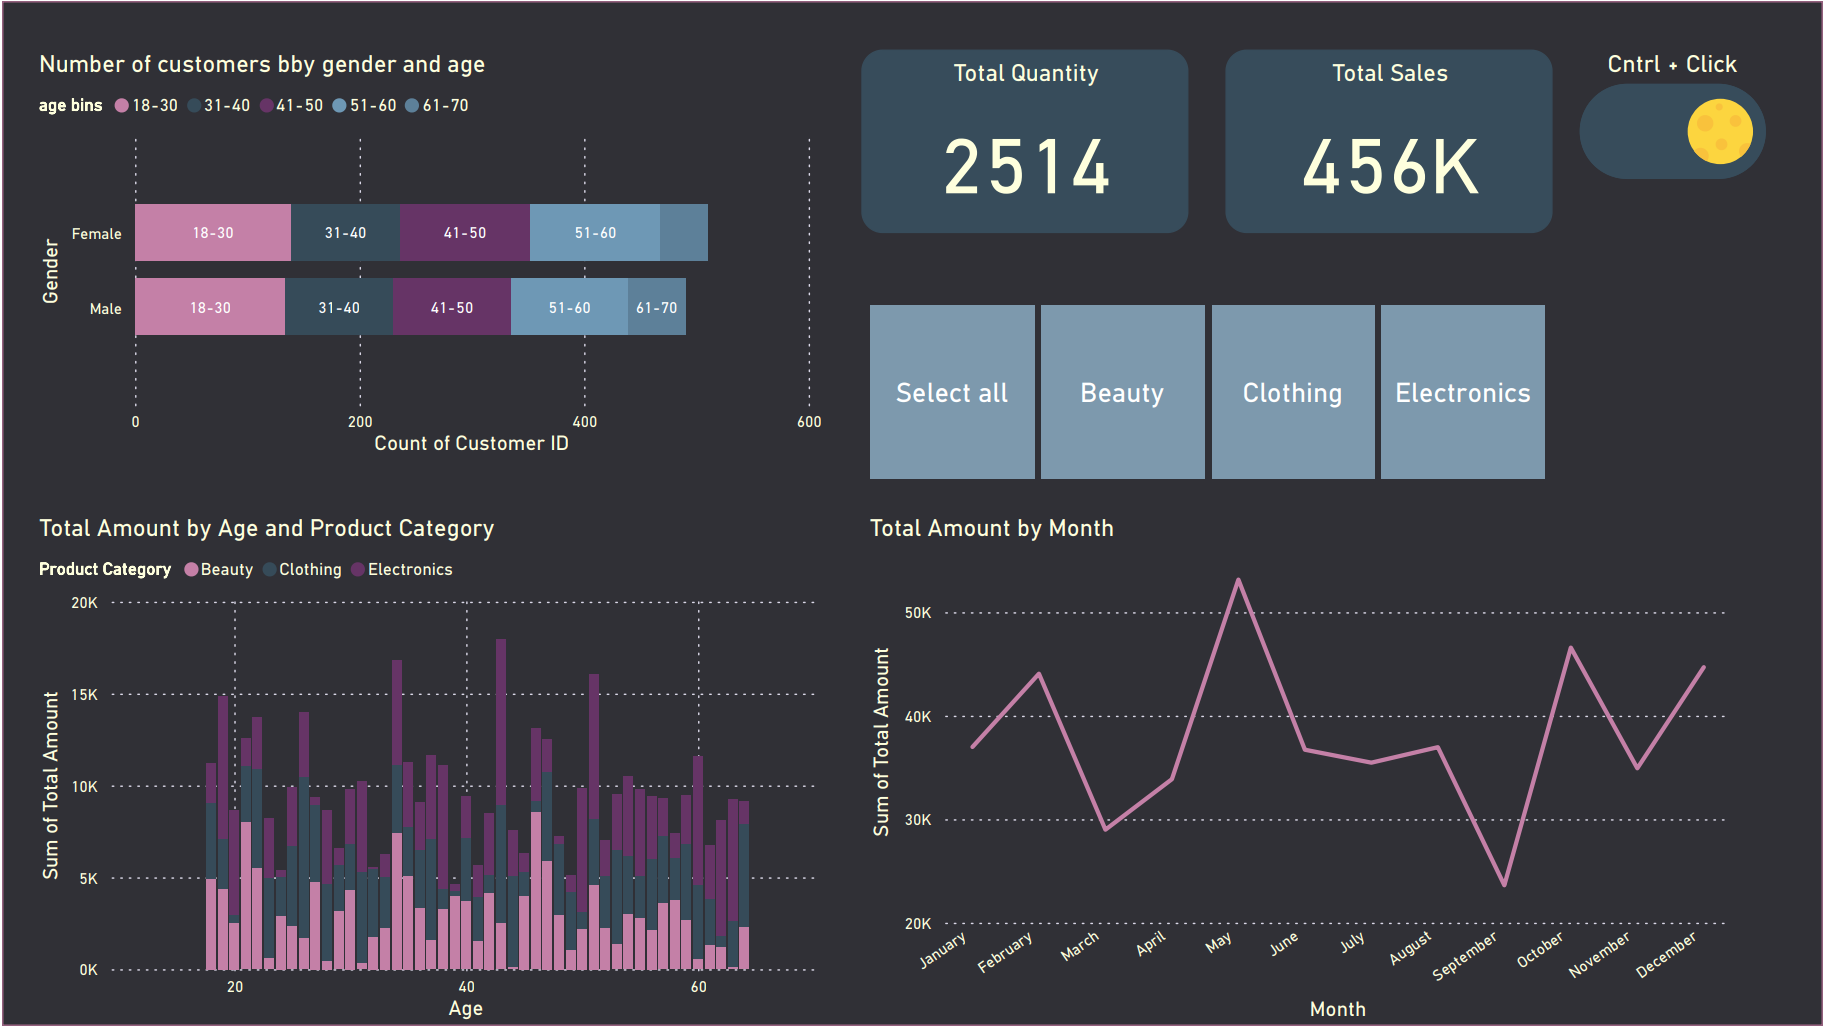

Layout of this report page (visuals, bound fields, positions):
{"tool":"powerbi","page":{"name":"Store","canvas":[1280,720],"ordinal":0},"visuals":[{"type":"shape","box":[0,0,1280,720],"z":0},{"type":"lineChart","title":"Total Amount by Month","fields":{"Category":["retail_sales_dataset.Date.Variation.Date Hierarchy.Month"],"Y":["Sum(retail_sales_dataset.Total Amount)"]},"box":[604.6,359.6,615.1,360.9],"z":1000},{"type":"slicer","fields":{"Values":["retail_sales_dataset.Product Category"]},"box":[582.9,207.1,527.1,137.1],"z":2000},{"type":"columnChart","title":"Total Amount by Age and Product Category","fields":{"Category":["retail_sales_dataset.Age"],"Y":["Sum(retail_sales_dataset.Total Amount)"],"Series":["retail_sales_dataset.Product Category"]},"box":[21.1,359.6,561.1,360.9],"z":3000},{"type":"card","title":"Total Sales","fields":{"Values":["Sum(retail_sales_dataset.Total Amount)"]},"box":[860,34.3,230,128.6],"z":4000},{"type":"barChart","title":"Number of customers bby gender and age","fields":{"Category":["retail_sales_dataset.Gender"],"Y":["CountNonNull(retail_sales_dataset.Customer ID)"],"Series":["retail_sales_dataset.age bins"]},"box":[21.1,34.2,561.1,289.8],"z":5000},{"type":"card","title":"Total Quantity","fields":{"Values":["Sum(retail_sales_dataset.Quantity)"]},"box":[604.3,34.3,230,128.6],"z":6000},{"type":"slicer","fields":{"Values":["Mode Selection.Mode"]},"box":[1125.7,66,104.3,60],"z":6000,"group":"g1"},{"type":"group","id":"g1","title":"Group 1","box":[1109.1,34.2,130.4,90.9],"z":7000},{"type":"bookmarkNavigator","title":"Cntrl + Click","box":[1109.1,34.2,131.4,91.4],"z":8000,"group":"g1"}]}

Visuals, with their boxes in screenshot pixels (x1, y1, x2, y2), scaled from the page's 1280x720 canvas onto the 1825x1029 screenshot:
shape: x1=0, y1=0, x2=1824, y2=1028
"Total Amount by Month" lineChart: x1=862, y1=514, x2=1739, y2=1028
slicer - retail_sales_dataset.Product Category: x1=831, y1=296, x2=1583, y2=492
"Total Amount by Age and Product Category" columnChart: x1=30, y1=514, x2=830, y2=1028
"Total Sales" card: x1=1226, y1=49, x2=1554, y2=233
"Number of customers bby gender and age" barChart: x1=30, y1=49, x2=830, y2=463
"Total Quantity" card: x1=862, y1=49, x2=1190, y2=233
slicer - Mode Selection.Mode: x1=1605, y1=94, x2=1754, y2=180
"Group 1" group: x1=1581, y1=49, x2=1767, y2=179
"Cntrl + Click" bookmarkNavigator: x1=1581, y1=49, x2=1769, y2=180
